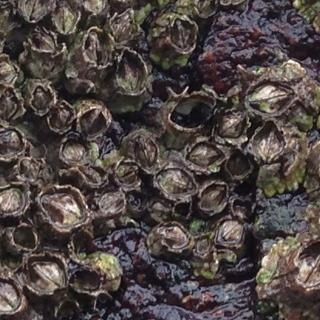Barnacle: (45, 189, 87, 228), (250, 82, 292, 118), (28, 255, 66, 291), (116, 49, 146, 93), (296, 240, 320, 289), (252, 126, 284, 160), (0, 183, 29, 220), (216, 110, 249, 141), (17, 0, 52, 28), (110, 11, 137, 47), (85, 30, 108, 72), (215, 217, 245, 249), (160, 167, 191, 197), (170, 17, 196, 52), (52, 0, 80, 32), (189, 143, 222, 170), (0, 279, 23, 316), (160, 223, 188, 253), (133, 133, 157, 167), (199, 185, 227, 213), (0, 91, 22, 123), (79, 109, 105, 136), (31, 30, 59, 55), (49, 104, 73, 133), (0, 128, 24, 156), (13, 221, 36, 250), (60, 139, 83, 165), (115, 164, 138, 188), (17, 158, 41, 181), (31, 87, 52, 112), (0, 58, 18, 82), (0, 2, 13, 33), (195, 0, 215, 16), (16, 174, 17, 175)
